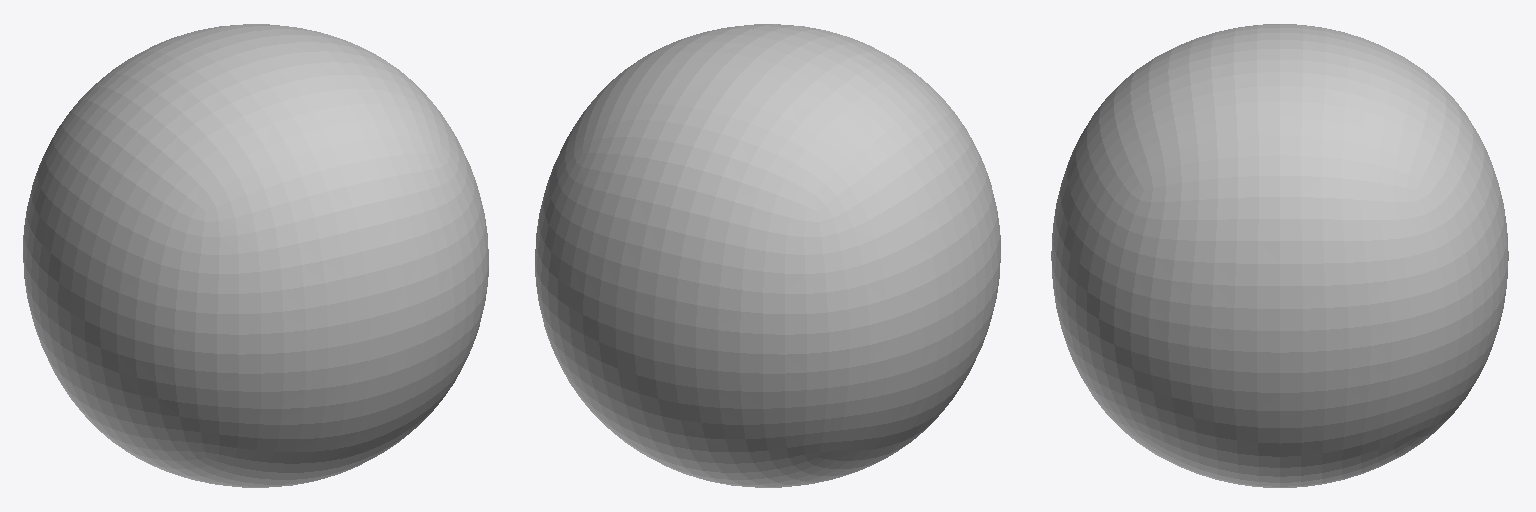
Rendered from egg.obj.
3 views of the same model, side by side, from view 1: azimuth 30°, elevation 25°; view 2: azimuth 150°, elevation 25°; view 3: azimuth 270°, elevation 25° (orthographic).
Visible parts, largest first — view 1: Cube_Cube.001; view 2: Cube_Cube.001; view 3: Cube_Cube.001.
Boxes of the visible parts, x1=… form: Cube_Cube.001: x1=23, y1=24, x2=488, y2=487; Cube_Cube.001: x1=535, y1=24, x2=1000, y2=487; Cube_Cube.001: x1=1051, y1=24, x2=1508, y2=487.
Size of the model in its own units: 0.8419 by 0.8419 by 0.8419.